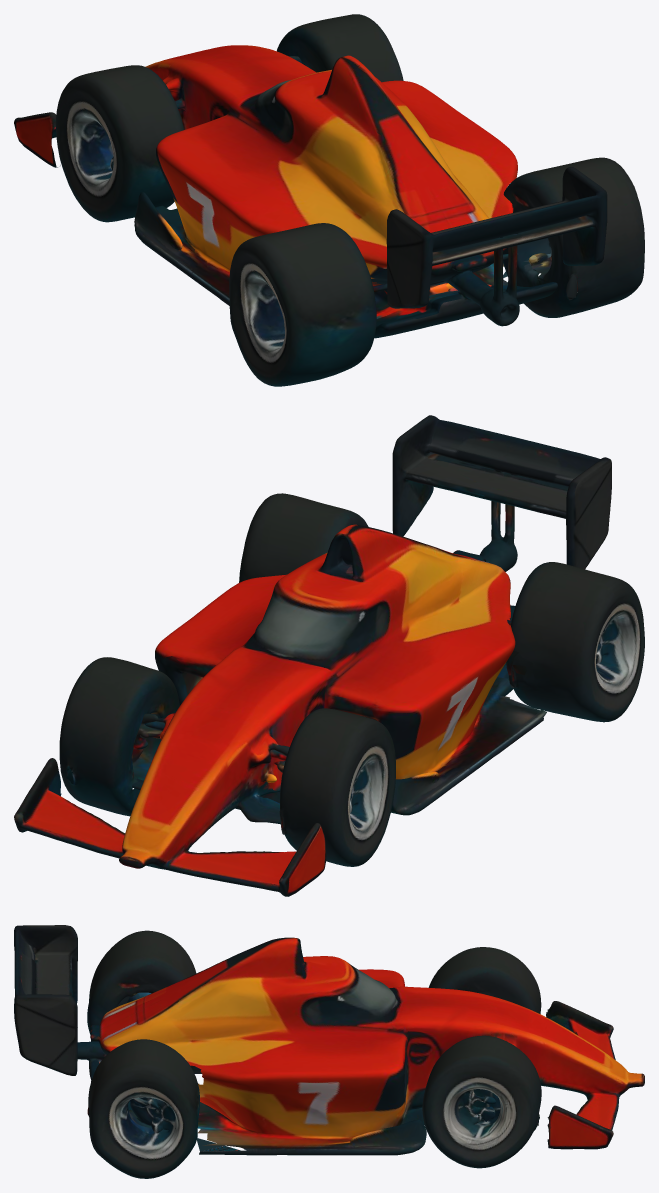
Rendered from raceCar1.glb.
The picture shows the model from 3 angles, top to bottom: view 1: azimuth 30°, elevation 25°; view 2: azimuth 150°, elevation 25°; view 3: azimuth 270°, elevation 25°; orthographic projection. The views are drawn at different scales.
Parts seen in each view (by area): view 1: car_body, Wheel_BL, Wheel_FL, Wheel_BR, Wheel_FR; view 2: car_body, Wheel_BL, Wheel_FL, Wheel_FR, Wheel_BR; view 3: car_body, Wheel_BR, Wheel_FR, Wheel_BL, Wheel_FL.
Boxes of the visible parts, <box> form: car_body: <box>14,45,607,338</box>; Wheel_BL: <box>229,223,376,386</box>; Wheel_FL: <box>56,65,184,222</box>; Wheel_BR: <box>503,157,644,317</box>; Wheel_FR: <box>277,14,403,82</box>; car_body: <box>14,415,611,896</box>; Wheel_BL: <box>508,562,644,722</box>; Wheel_FL: <box>279,708,395,866</box>; Wheel_FR: <box>59,657,179,816</box>; Wheel_BR: <box>239,493,368,582</box>; car_body: <box>14,925,644,1155</box>; Wheel_BR: <box>87,1039,199,1178</box>; Wheel_FR: <box>422,1035,541,1168</box>; Wheel_BL: <box>87,930,196,1034</box>; Wheel_FL: <box>428,947,541,1013</box>.
Bounding box in the file's own units: 1.52 × 0.8782 × 2.84.
1 material, 1 textured.
